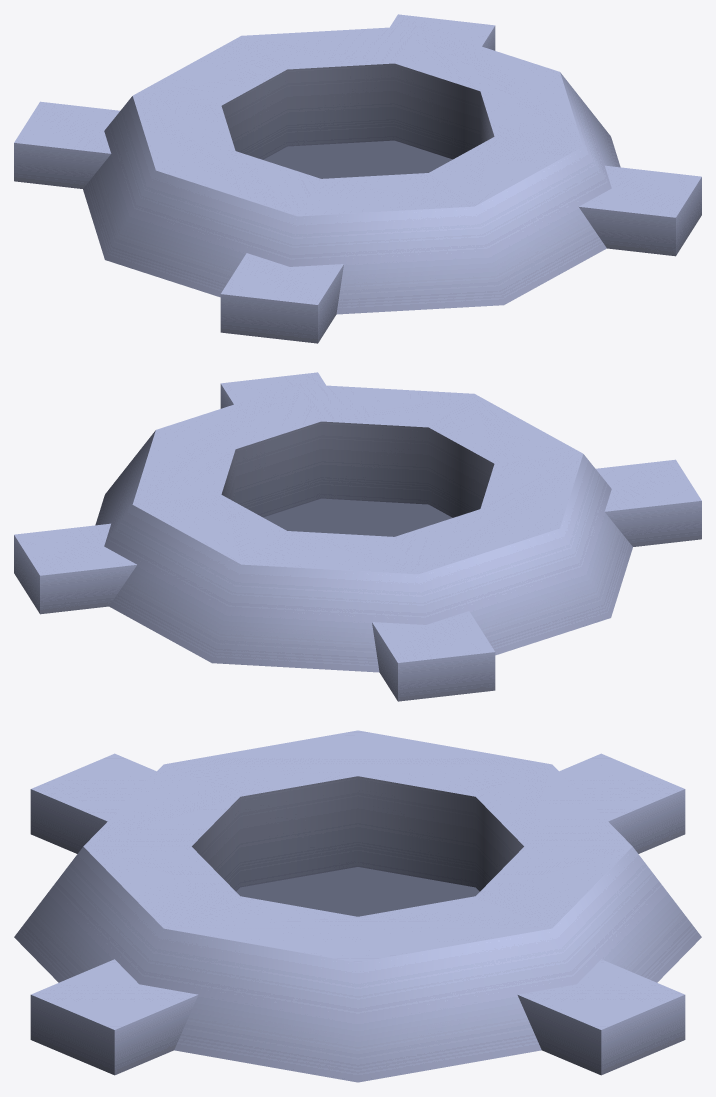
File: spawn-round.glb
3 renders of one model, top to bottom at view 1: azimuth 30°, elevation 25°; view 2: azimuth 150°, elevation 25°; view 3: azimuth 270°, elevation 25°, orthographic. The views are drawn at different scales.
Visible parts, largest first — view 1: spawn-round; view 2: spawn-round; view 3: spawn-round.
Part boxes in pixels (x1,y1,x2,y2): spawn-round: (14, 14, 701, 343); spawn-round: (14, 372, 701, 701); spawn-round: (14, 730, 701, 1082).
Bounding box in the file's own units: 0.6875 × 0.1 × 0.6875.
Materials: 1 (1 with a texture image).
